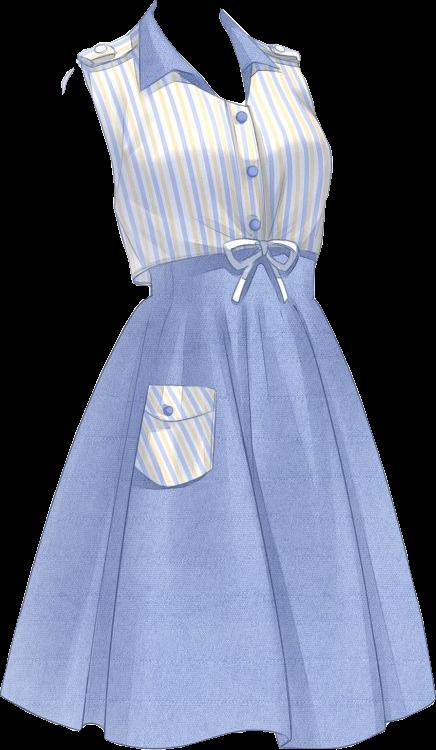Bodice: (76, 0, 332, 283)
Hemline: (0, 687, 435, 749)
Neckline: (150, 0, 248, 111)
Skirt: (1, 255, 434, 748)
Waistline: (150, 248, 321, 277)
